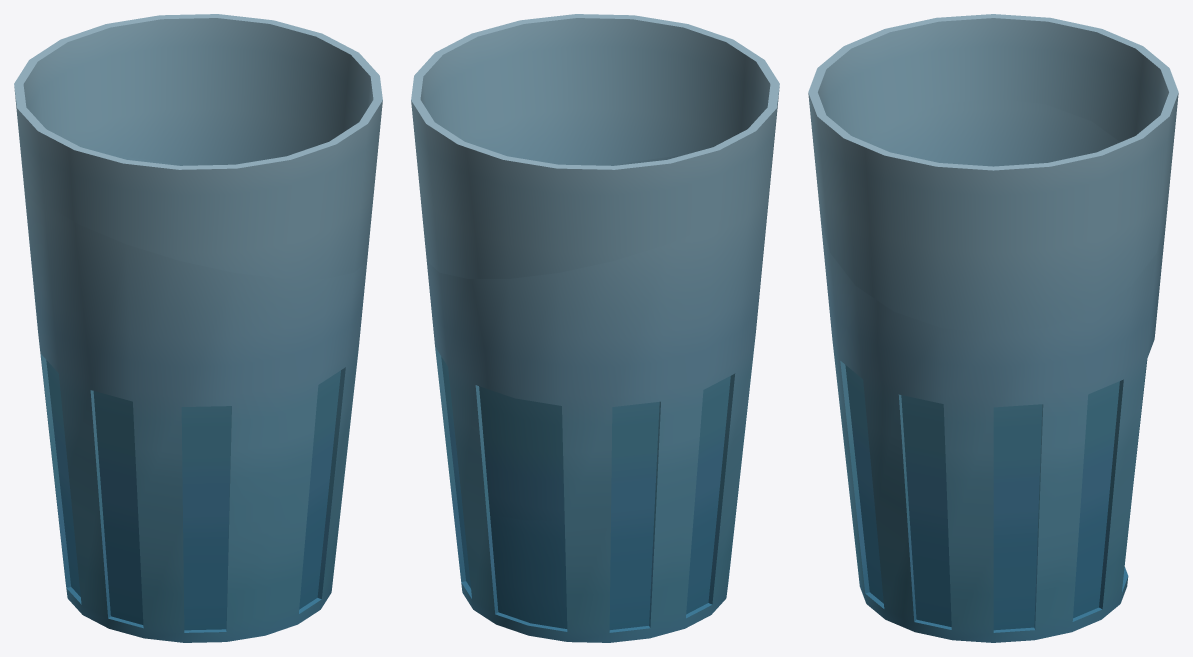
File: Glass break.fbx
The picture shows the model from 3 angles, left to right: view 1: azimuth 30°, elevation 25°; view 2: azimuth 150°, elevation 25°; view 3: azimuth 270°, elevation 25°; orthographic projection.
Parts seen in each view (by area): view 1: Glass_.001, Glass_, Glass_.002; view 2: Glass_.001, Glass_, Glass_.002; view 3: Glass_.001, Glass_, Glass_.002.
Part boxes in pixels (x1,y1,x2,y2): Glass_.001: (14, 14, 382, 278); Glass_: (22, 155, 367, 522); Glass_.002: (51, 450, 342, 642); Glass_.001: (411, 14, 779, 278); Glass_: (426, 155, 771, 522); Glass_.002: (451, 444, 743, 642); Glass_.001: (808, 14, 1178, 333); Glass_: (820, 98, 1166, 550); Glass_.002: (846, 469, 1132, 642).
Bounding box in the file's own units: 14.3 × 21.05 × 14.3.
